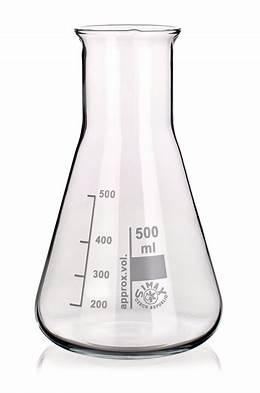Titrarion: (11, 32, 226, 359)
